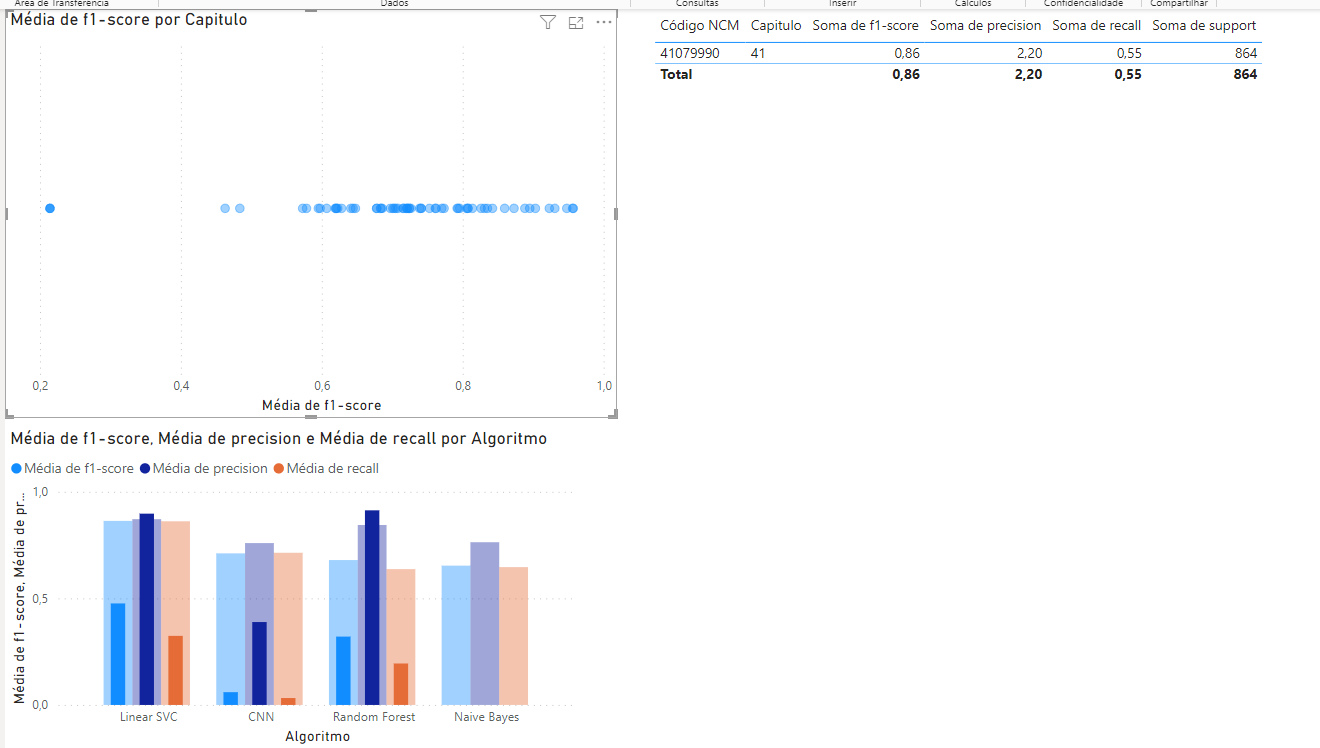

This screenshot's page, from the dashboard's own definition file:
{"tool":"powerbi","page":{"name":"Página 1","canvas":[1280,720],"ordinal":0},"visuals":[{"type":"scatterChart","fields":{"Category":["Sheet1.Capitulo"],"X":["Avg(Sheet1.f1-score)"]},"box":[656,397.5,594.8,322.7],"z":0},{"type":"clusteredColumnChart","fields":{"Y":["Avg(Sheet1.f1-score)","Avg(Sheet1.precision)","Avg(Sheet1.recall)"],"Category":["Sheet1.Algoritmo"]},"box":[0,9.7,625.9,378.1],"z":1000},{"type":"tableEx","fields":{"Values":["Sheet1.Código NCM","Sheet1.Capitulo","Sum(Sheet1.f1-score)","Sum(Sheet1.precision)","Sum(Sheet1.recall)","Sum(Sheet1.support)"]},"box":[625.9,0,654.1,397.5],"z":2000}]}

Visuals, with their boxes on the page's 1280x720 design canvas (x1, y1, x2, y2). These are canvas units, not pixel positions in the 1320x748 screenshot, which may show the page scaled, cropped or inside an application window:
scatterChart - Sheet1.Capitulo x Avg(Sheet1.f1-score): 656,398,1251,720
clusteredColumnChart - Avg(Sheet1.f1-score) x Avg(Sheet1.precision): 0,10,626,388
tableEx - Sheet1.Código NCM x Sheet1.Capitulo: 626,0,1280,398
